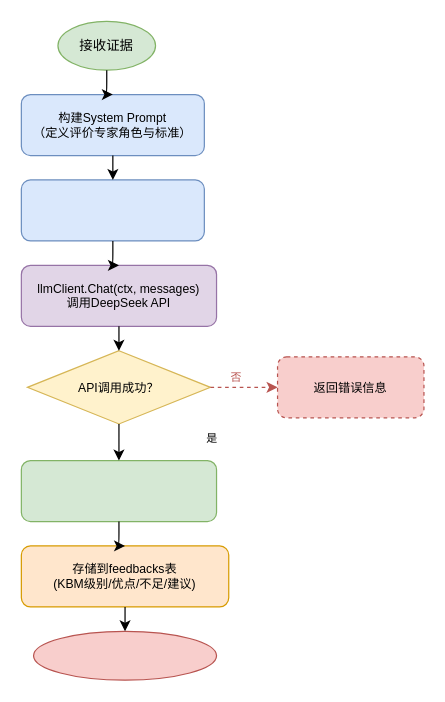
The diagram is 445 pixels wide and 702 high, and some of its shapes have lost their labels. The centre of each missing label's shape, as x and y in pixels:
"ParseFeedbackResponse() 解析LLM返回的JSON" goes at (x=118, y=490).
"构建User Prompt （证据内容 + JSON输出格式）" goes at (x=112, y=210).
"返回FeedbackResult" goes at (x=124, y=655).
